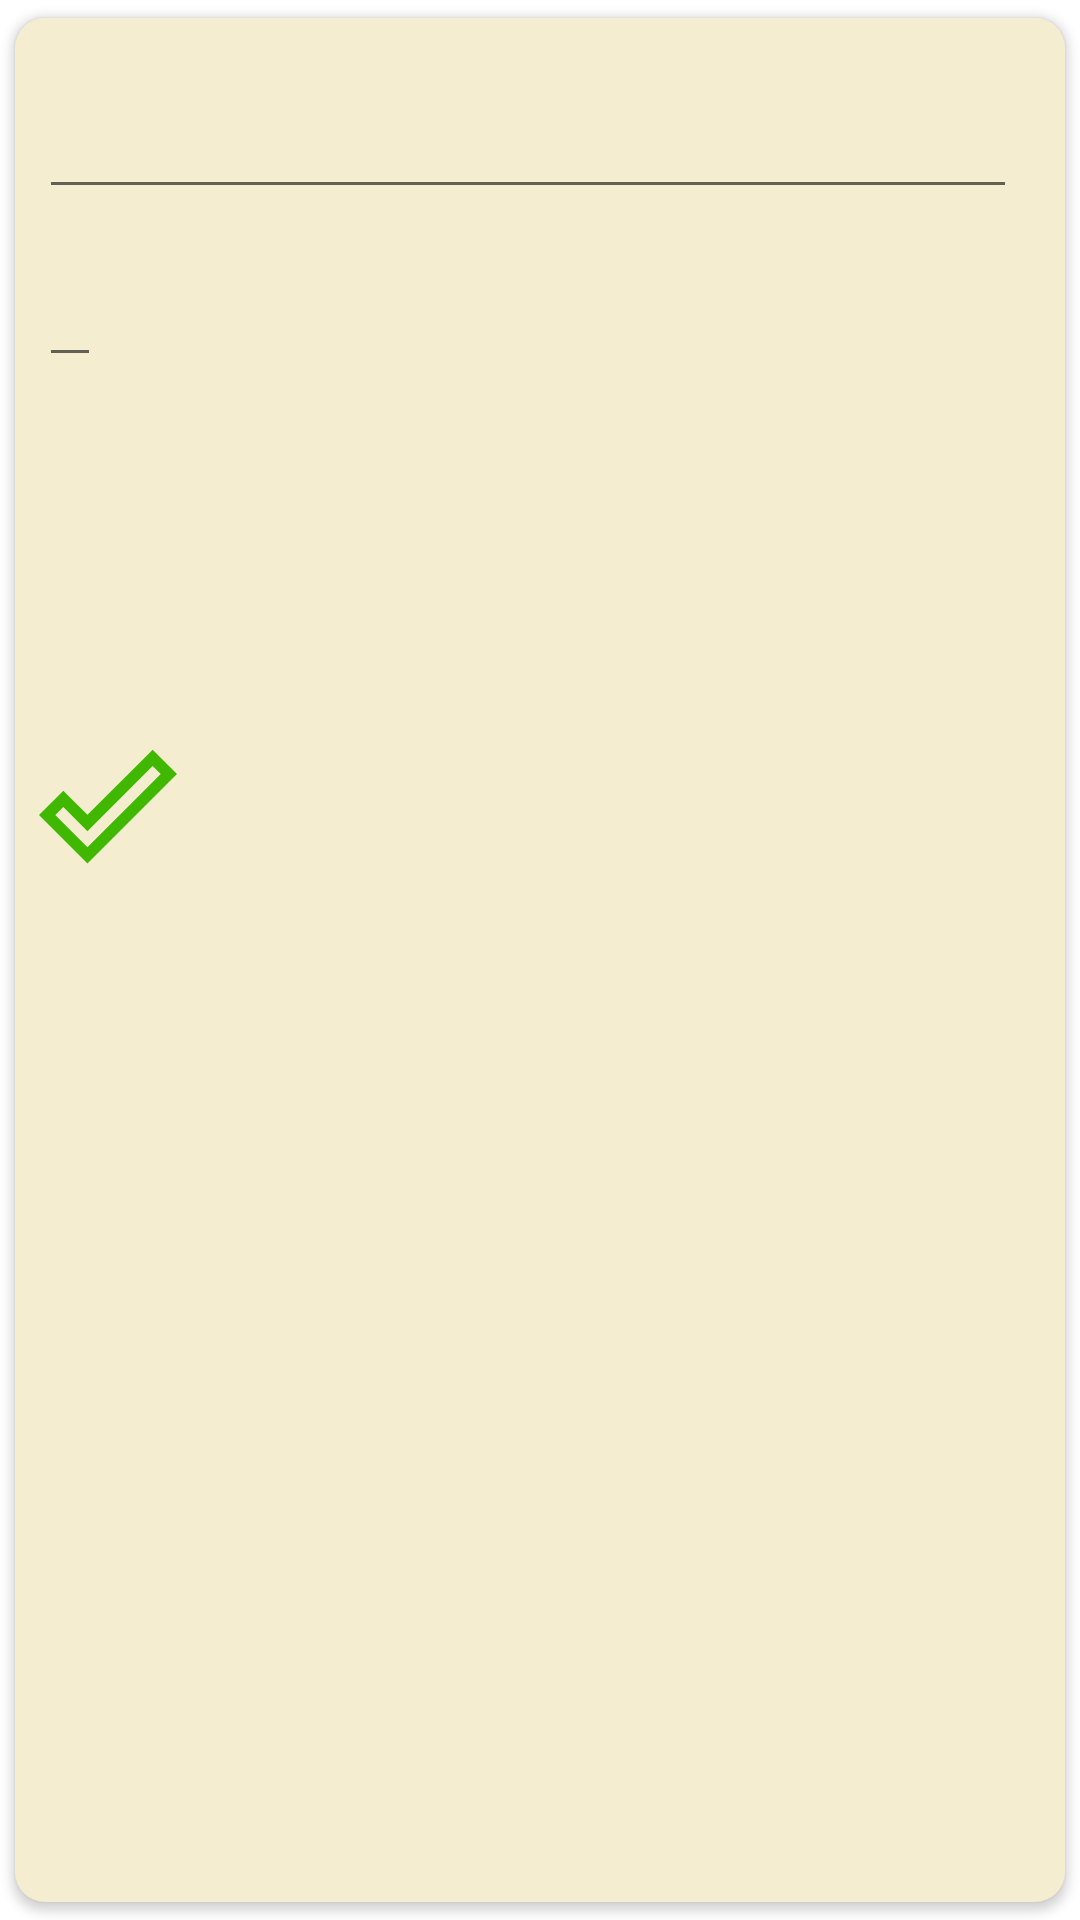

Where to tap for icons on this 1080px x 1920px app screen, as [x,y]:
done: [108,807]
